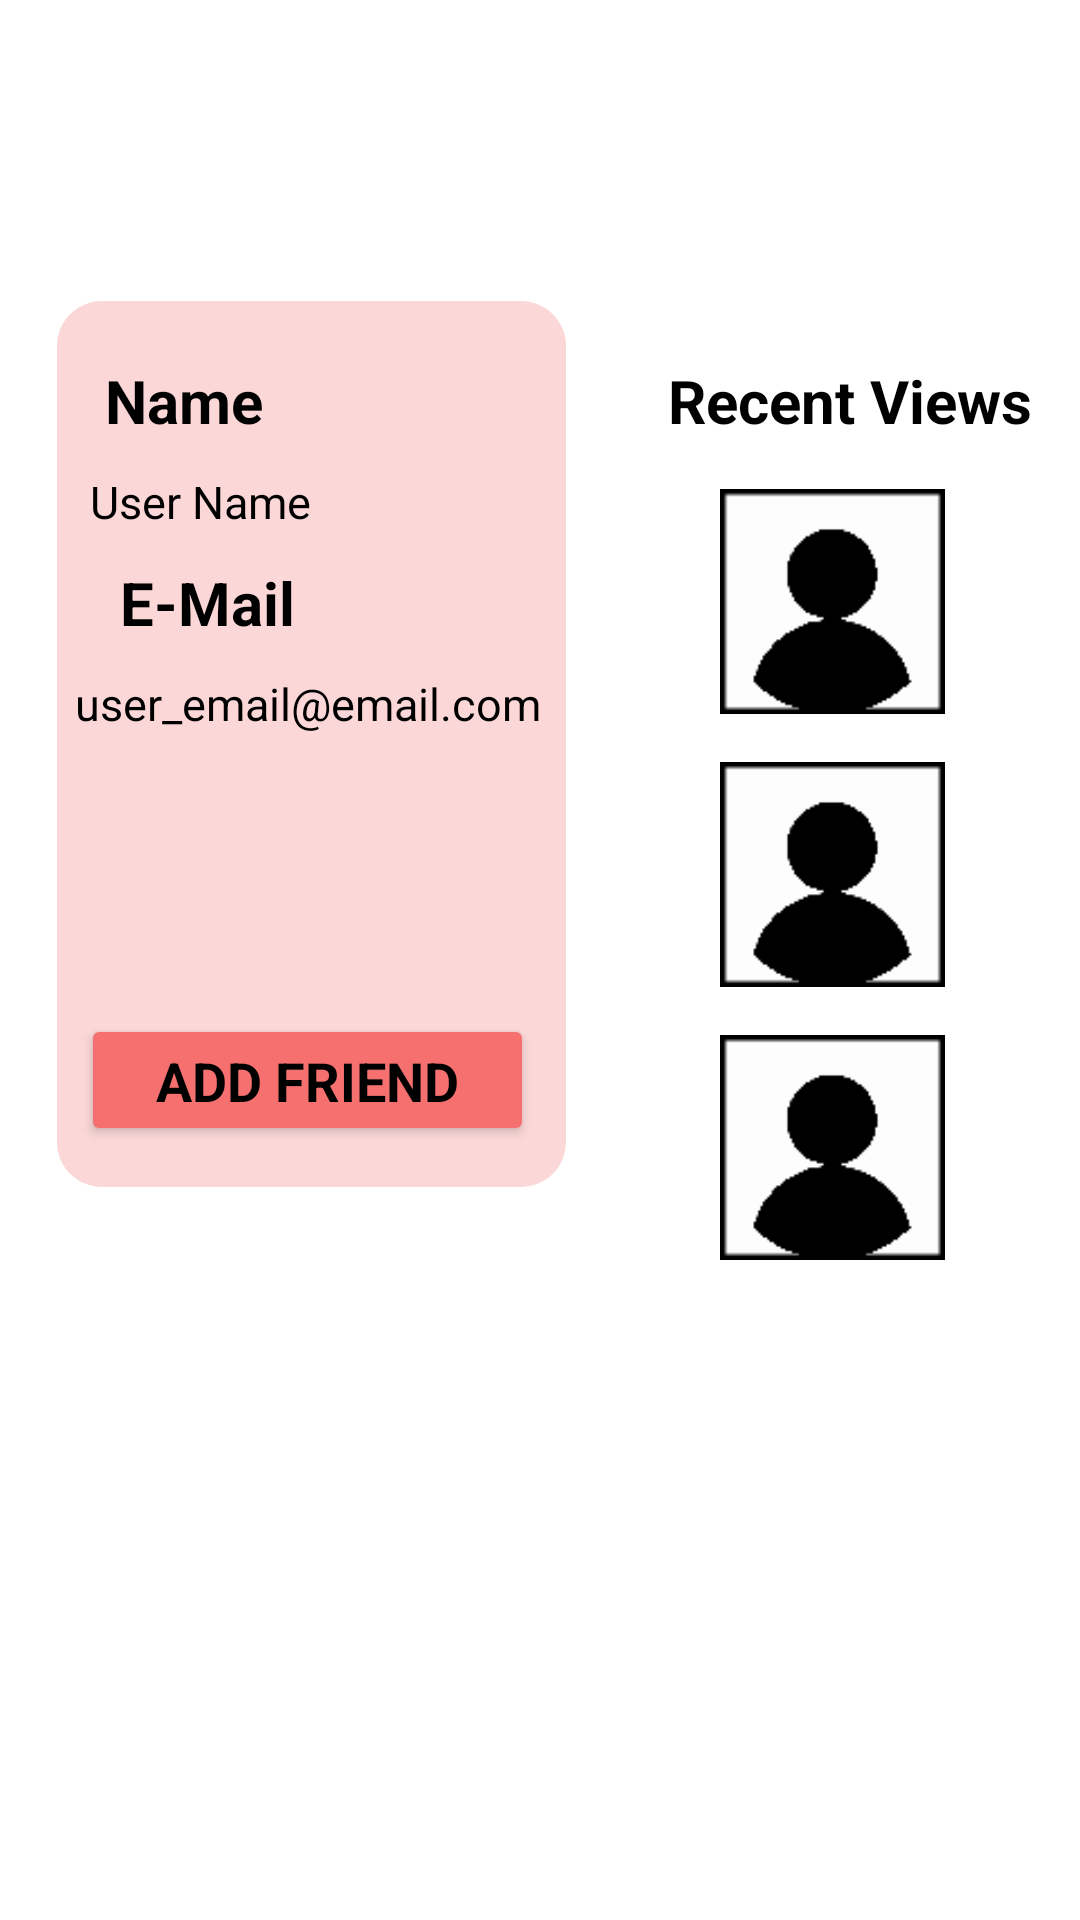

Named icons in this screenshot (1080px×1920px) and their bounding boxes, (x1,y1,x2,y2):
foto usuario chat: (720,489,945,714), (720,762,945,987), (720,1035,945,1260)
